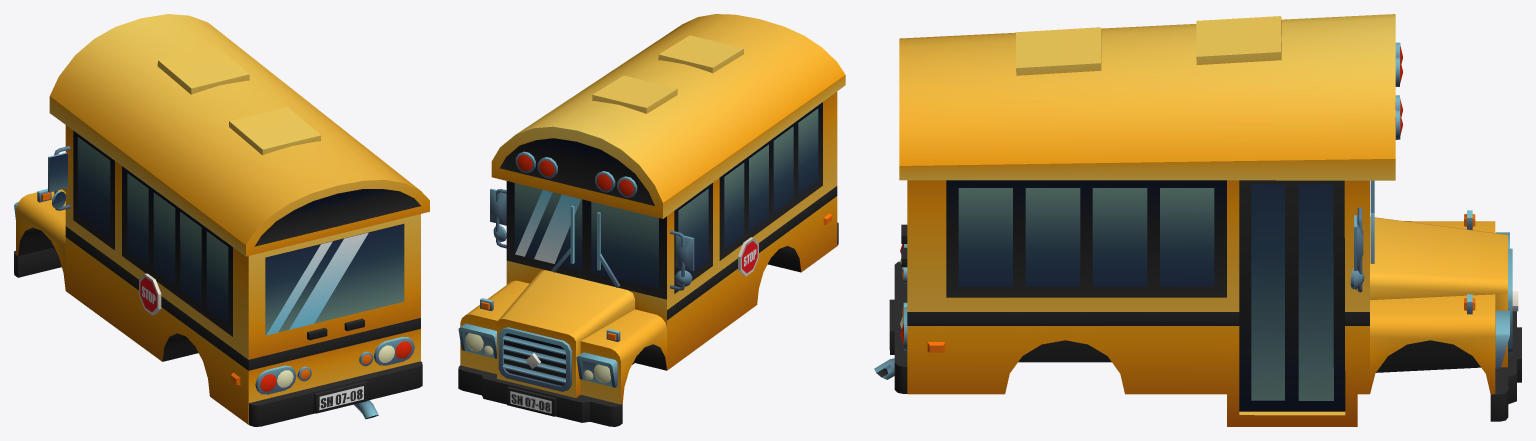
The model's file is car13.glb.
3 views of the same model, side by side, from view 1: azimuth 30°, elevation 25°; view 2: azimuth 150°, elevation 25°; view 3: azimuth 270°, elevation 25° (orthographic). The views are drawn at different scales.
Visible parts, largest first — view 1: model_11.005; view 2: model_11.005; view 3: model_11.005.
Part boxes in pixels (x1,y1,x2,y2): model_11.005: (14,14,429,426); model_11.005: (458,14,845,426); model_11.005: (874,14,1521,426).
Bounding box in the file's own units: 167 × 197 × 339.
Materials: 1 (1 with a texture image).
